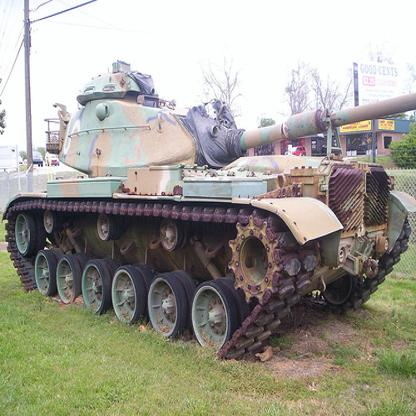Tank: (3, 56, 416, 362)
